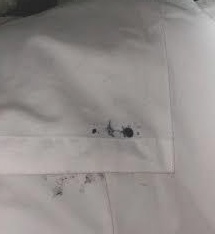ink: (52, 174, 98, 196), (86, 121, 140, 139)
